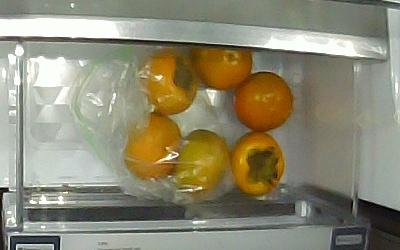persimmon: (234, 71, 296, 132), (230, 132, 288, 197), (195, 45, 252, 90)
persimmon_vinyl: (174, 129, 232, 203), (124, 113, 183, 183), (138, 49, 198, 115)
